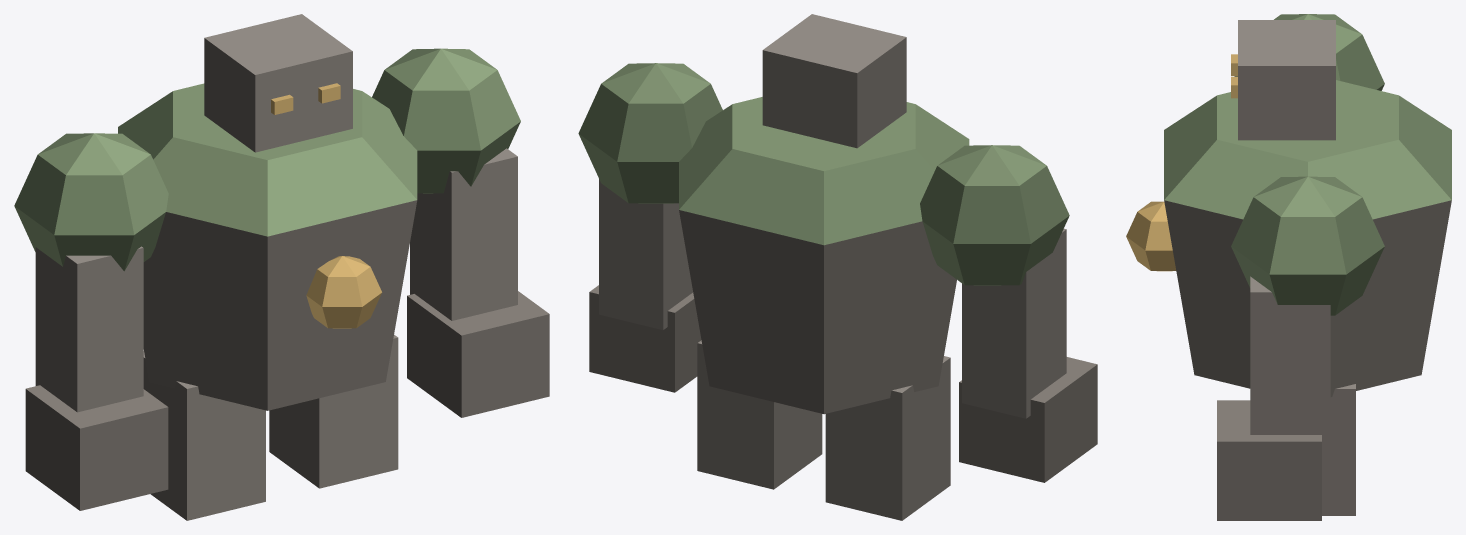
Rendered from monster_large.glb.
3 renders of one model, left to right at view 1: azimuth 30°, elevation 25°; view 2: azimuth 150°, elevation 25°; view 3: azimuth 270°, elevation 25°, orthographic. The views are drawn at different scales.
Bounding box in the file's own units: 2.98 × 2.67 × 1.86.
